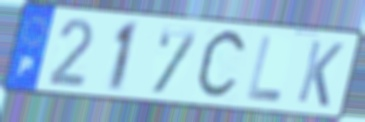1: (109, 18, 145, 96)
2: (43, 16, 95, 88)
7: (151, 24, 201, 96)
C: (192, 26, 250, 105)
K: (294, 37, 346, 110)
L: (244, 34, 285, 105)
